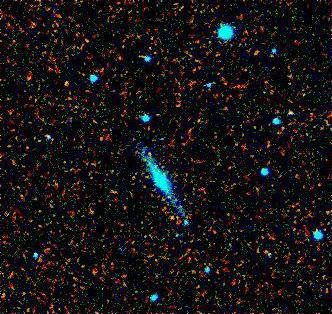star: (157, 204, 187, 234)
